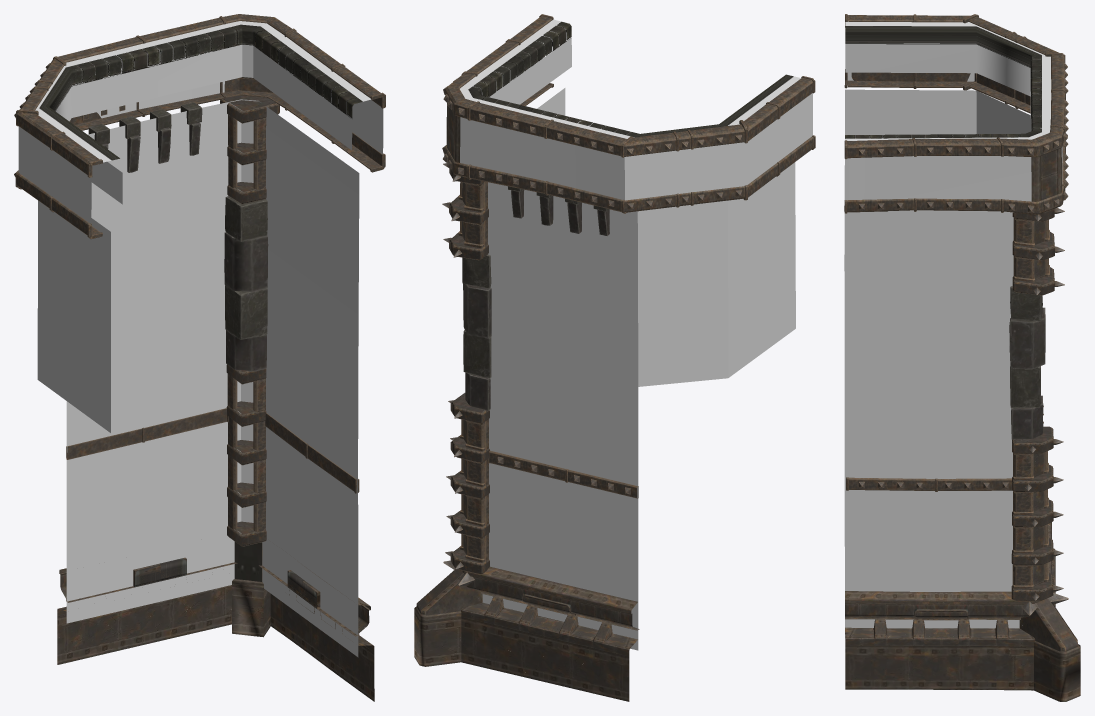
3 renders of one model, left to right at view 1: azimuth 30°, elevation 25°; view 2: azimuth 150°, elevation 25°; view 3: azimuth 270°, elevation 25°, orthographic. The views are drawn at different scales.
Visible parts, largest first — view 1: SM_DR_Gateway_Sides_Corner_LOD0; view 2: SM_DR_Gateway_Sides_Corner_LOD0; view 3: SM_DR_Gateway_Sides_Corner_LOD0.
Part boxes in pixels (left/top/right/bottom): SM_DR_Gateway_Sides_Corner_LOD0: left=14, top=14, right=385, bottom=701; SM_DR_Gateway_Sides_Corner_LOD0: left=414, top=14, right=815, bottom=701; SM_DR_Gateway_Sides_Corner_LOD0: left=844, top=14, right=1080, bottom=701.
Size of the model in its own units: 10.09 by 18.93 by 7.34.
5 materials, 4 textured.
